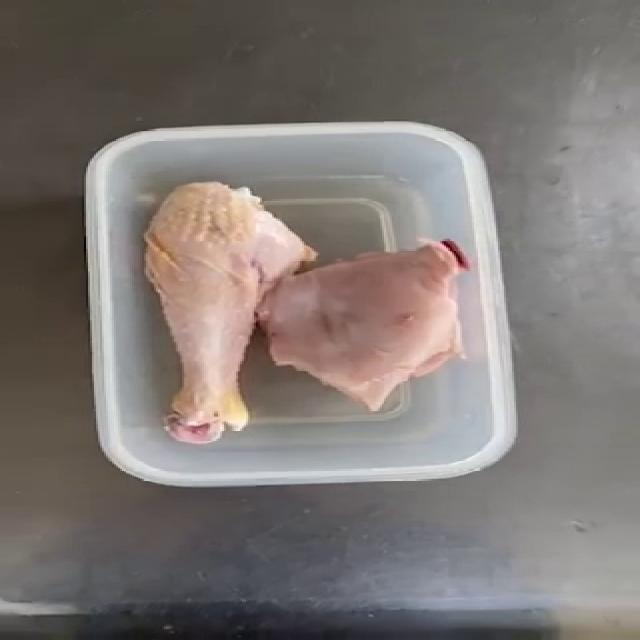chicken: (138, 176, 472, 437)
